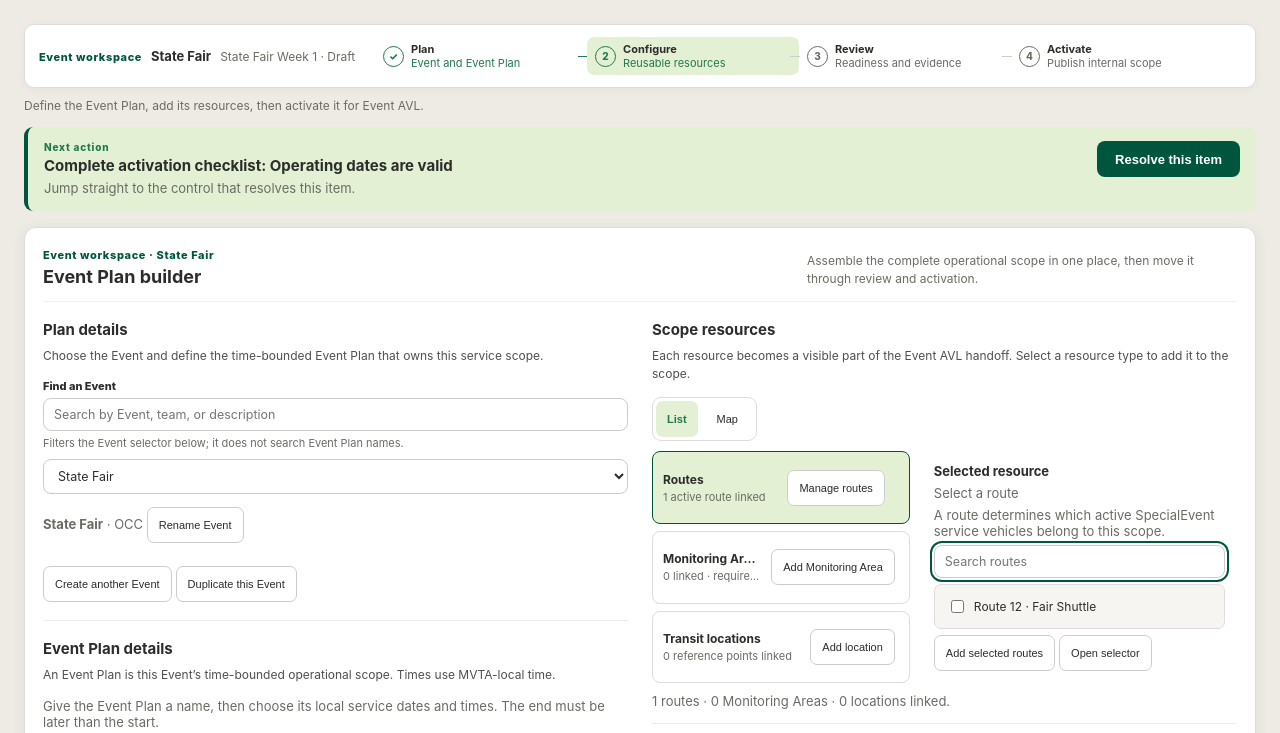
Test: EventPlanning › bulk resource linking › skips a resource already on the plan and reports it instead of re-adding it
The width and height of the screenshot is (1280, 733).
Click the checkbox labelled "Route 12 · Fair Shuttle".
click(957, 607)  # box [951,600,964,613]
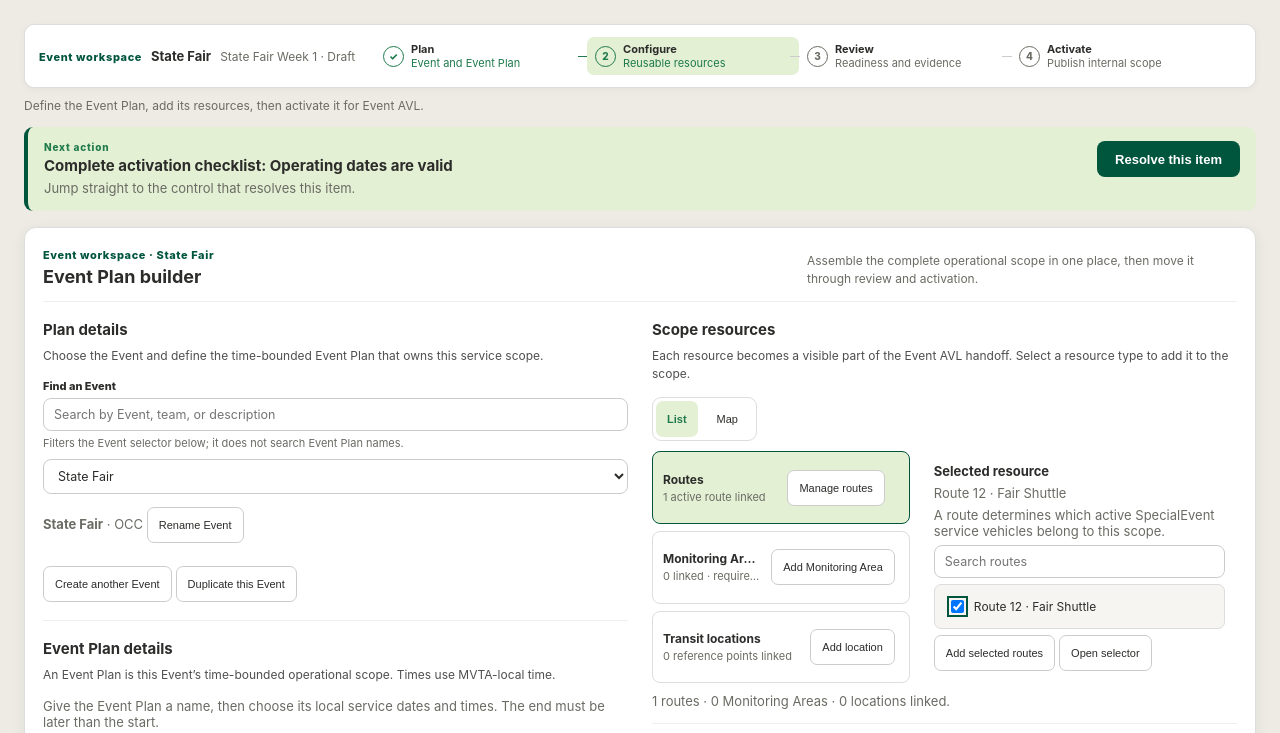
Click the button "Add selected routes".
click(994, 653)  # box [934,635,1055,671]
(page scrolled)
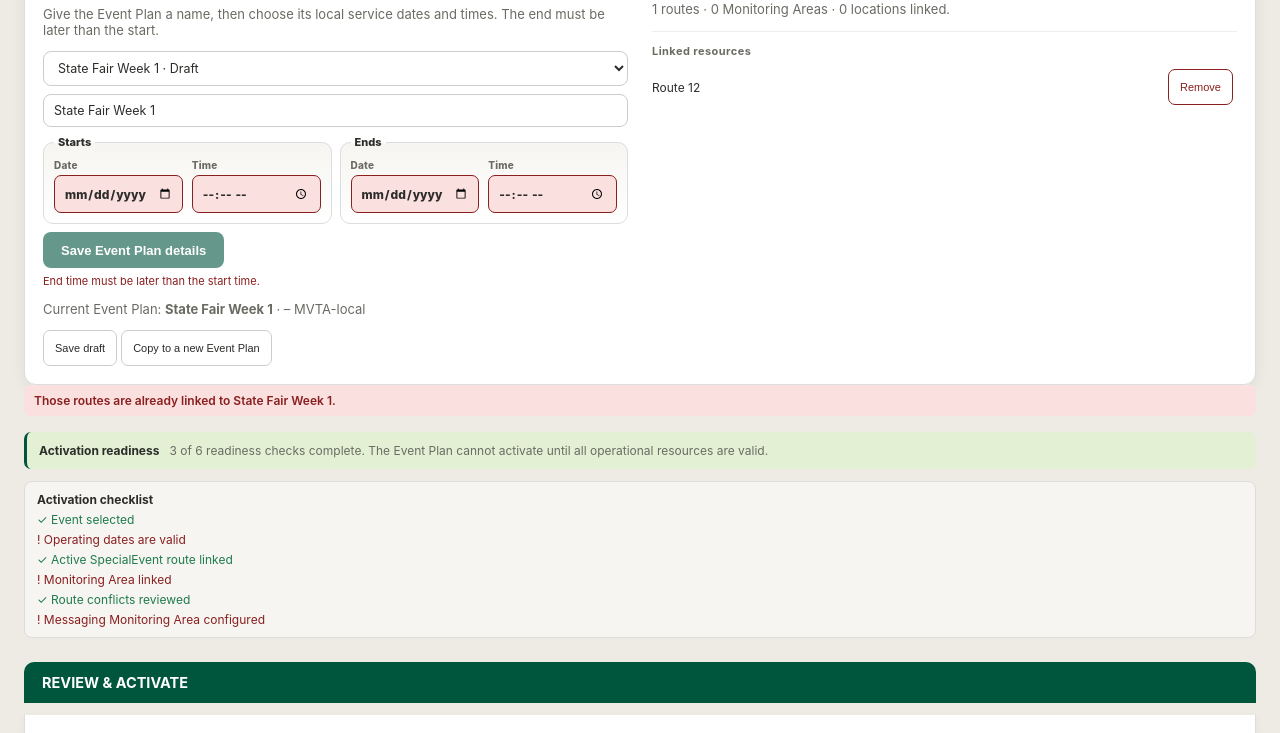
expect the text "Those routes are already linked to State Fair Week 1." is shown: met, box [24,385,1256,416]
